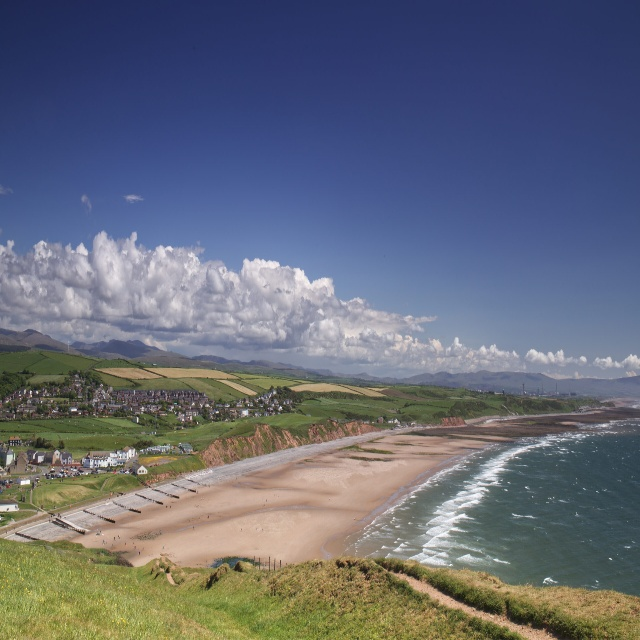linhaEspraiamento: (329, 451, 489, 552), (445, 431, 571, 472), (538, 418, 640, 441)
